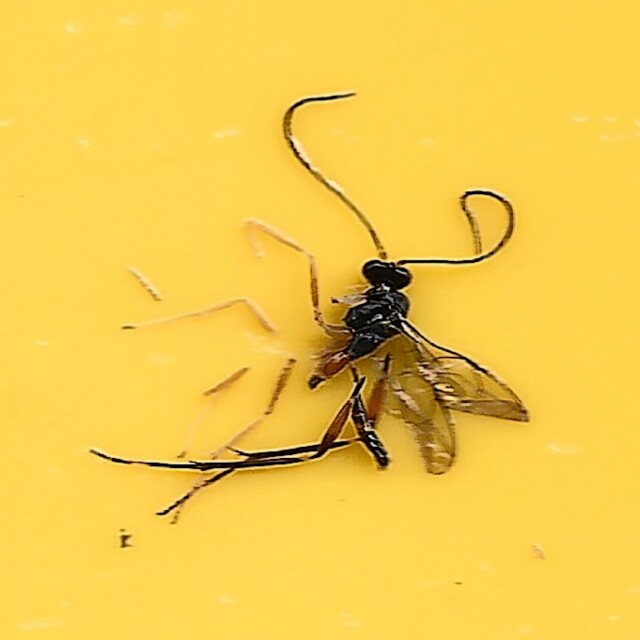Hymenoptera: (109, 93, 531, 547)
